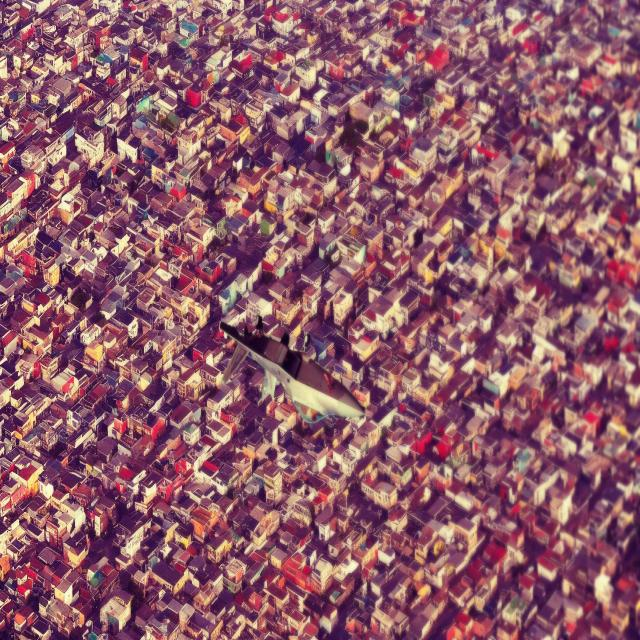airplane: (218, 315, 367, 432)
